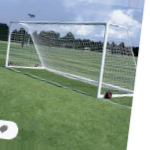goals: (5, 18, 137, 101)
